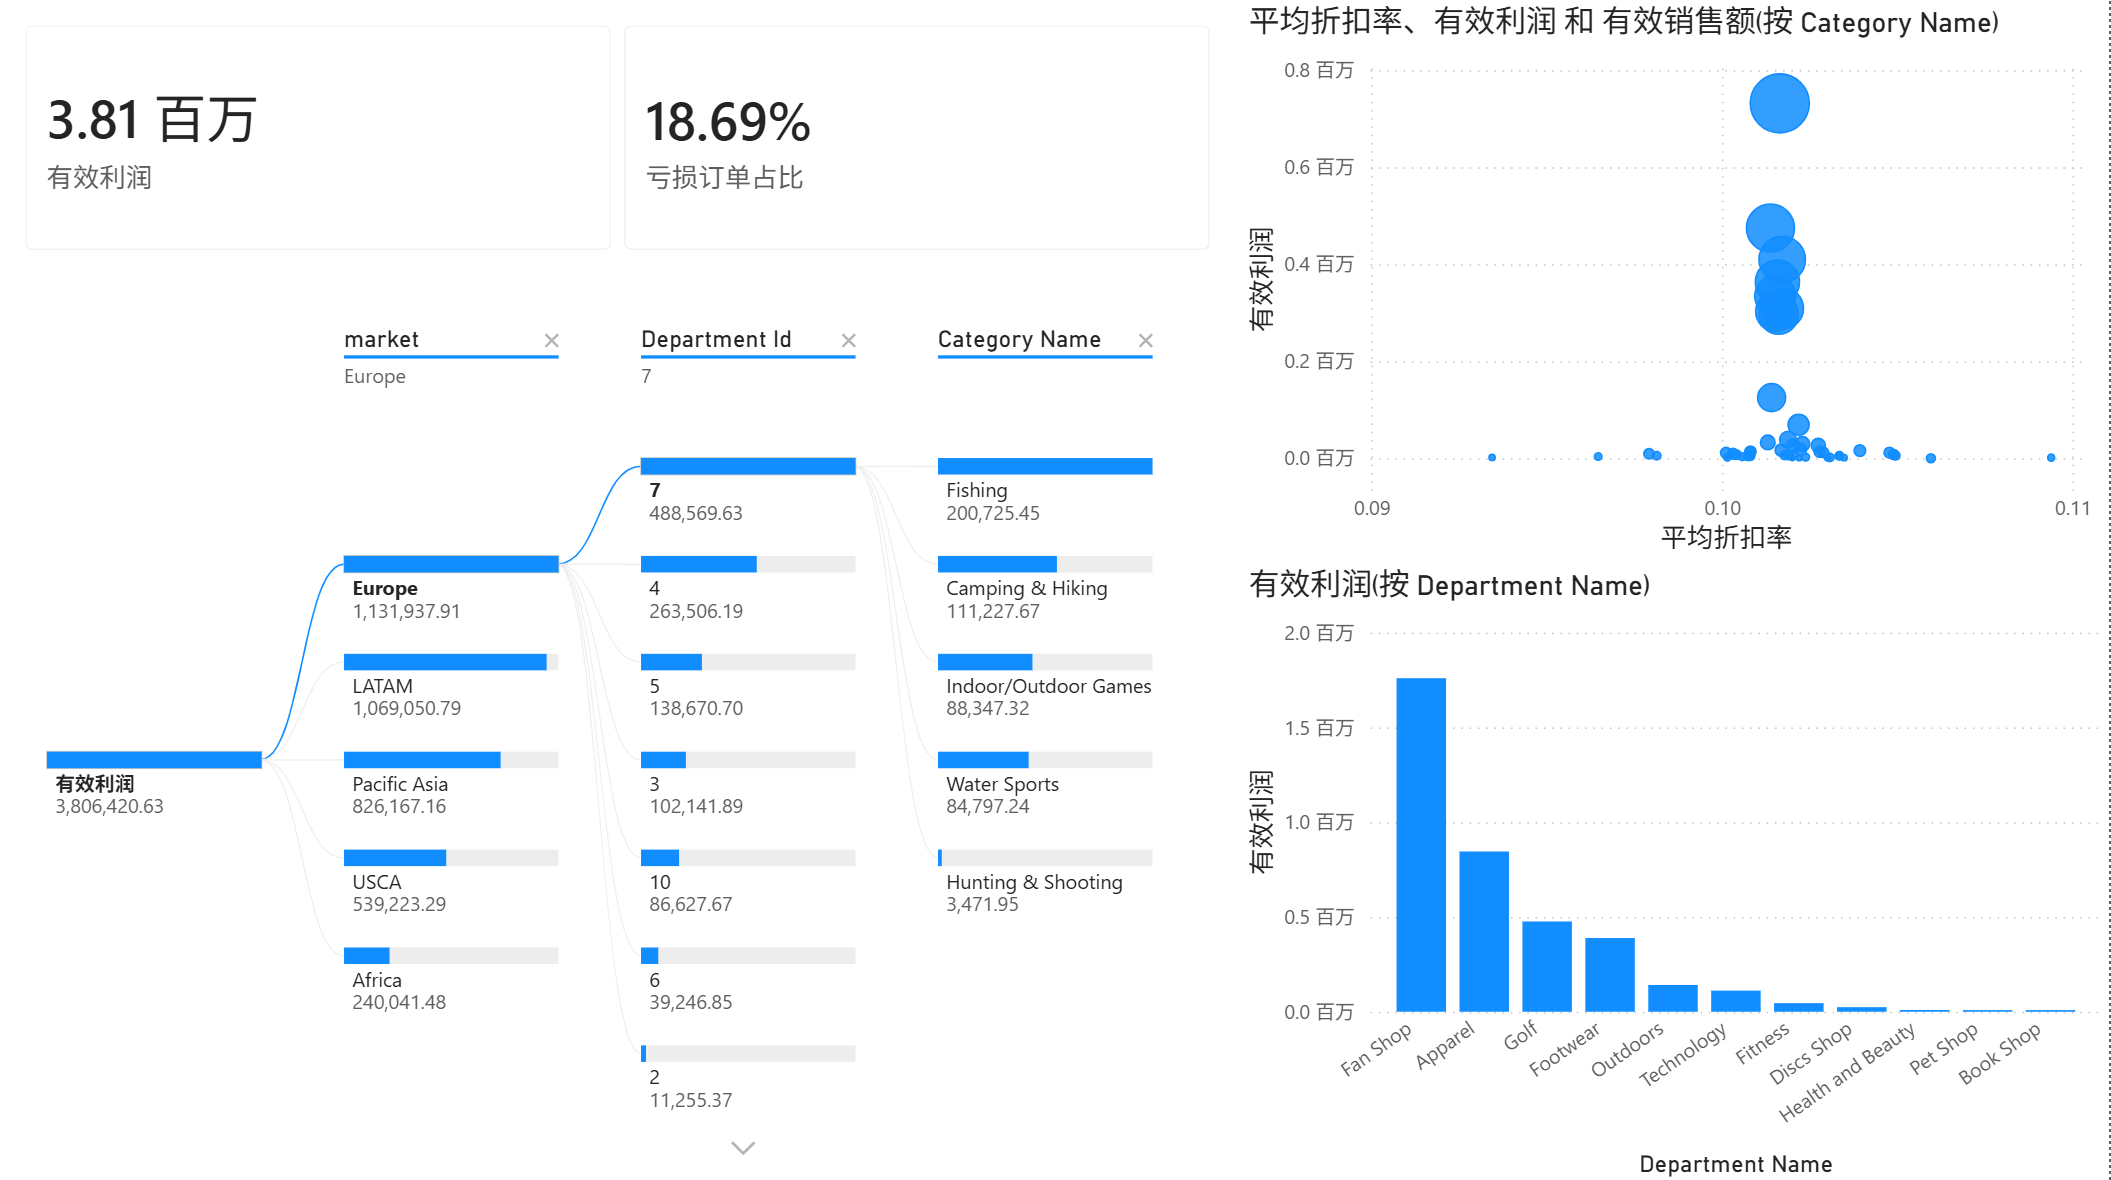

This screenshot's page, from the dashboard's own definition file:
{"tool":"powerbi","page":{"name":"第 3 页","canvas":[1280,720],"ordinal":2},"visuals":[{"type":"cardVisual","fields":{"Data":["fact_order_items.有效利润","fact_order_items.亏损订单占比"]},"box":[0,0,753.6,170.9],"z":0},{"type":"decompositionTreeVisual","fields":{"Analyze":["fact_order_items.有效利润"],"ExplainBy":["fact_order_items.market","dim_product.Department Id","dim_product.Category Name"]},"box":[0,181.8,799.1,538.2],"z":1000},{"type":"scatterChart","fields":{"Category":["dim_product.Category Name"],"Size":["fact_order_items.有效销售额"],"X":["fact_order_items.平均折扣率"],"Y":["fact_order_items.有效利润"]},"box":[753.6,0,526.4,340.9],"z":2000},{"type":"columnChart","fields":{"Category":["dim_product.Department Name"],"Y":["fact_order_items.有效利润"]},"box":[753.6,340.9,526.4,379.1],"z":2001}]}

Visuals, with their boxes in screenshot pixels (x1, y1, x2, y2), scaled from the page's 1280x720 canvas onto the 2111x1180 screenshot:
cardVisual - fact_order_items.有效利润 x fact_order_items.亏损订单占比: (x1=0, y1=0, x2=1243, y2=280)
decompositionTreeVisual - fact_order_items.有效利润 x fact_order_items.market: (x1=0, y1=298, x2=1318, y2=1179)
scatterChart - dim_product.Category Name x fact_order_items.有效销售额: (x1=1243, y1=0, x2=2110, y2=559)
columnChart - dim_product.Department Name x fact_order_items.有效利润: (x1=1243, y1=559, x2=2110, y2=1179)
